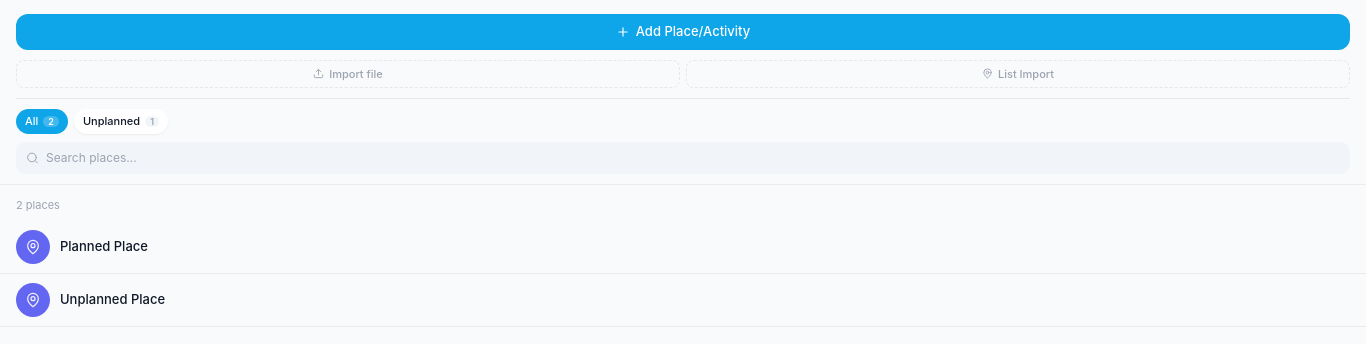
Filter tabs › FE-PLANNER-SIDEBAR-018: "All" tab re-shows planned places
Click the button "Unplanned 1" at (121, 121), box [74, 109, 168, 134]
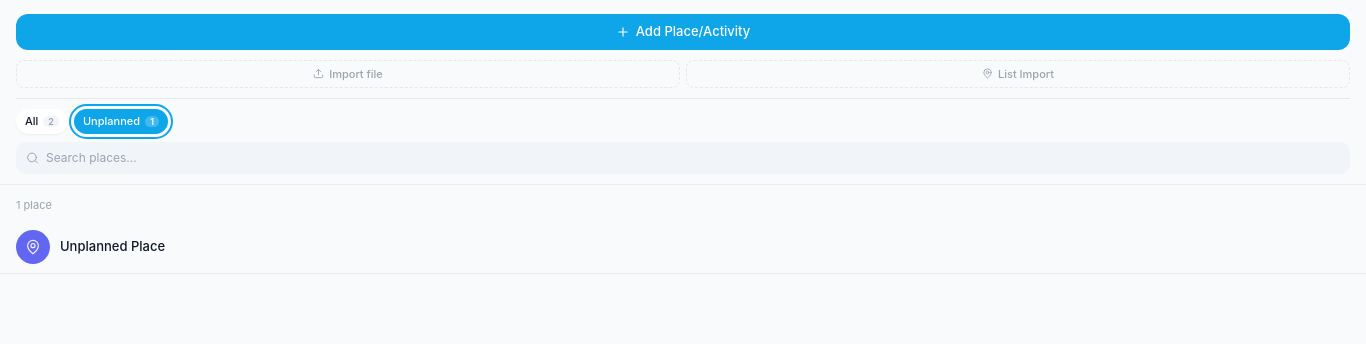
Click the button "All 2" at (42, 121), box [16, 109, 68, 134]
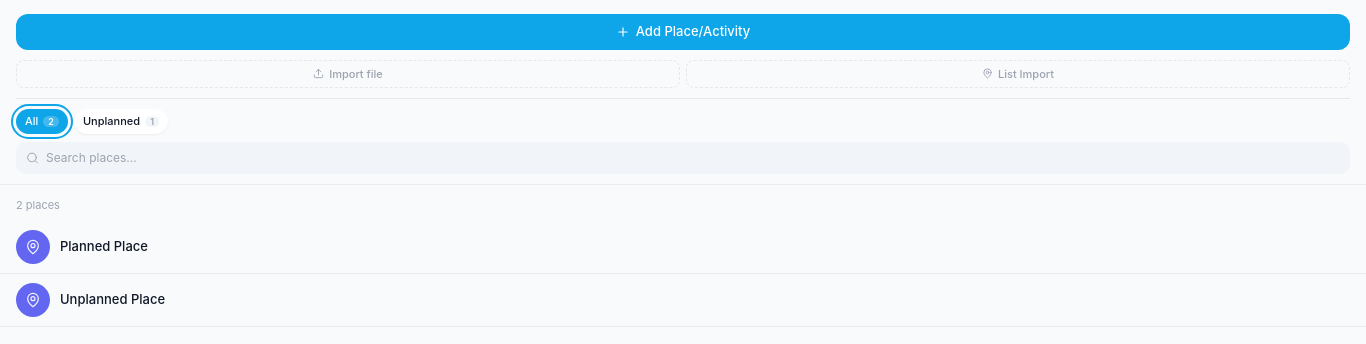
Expected: the text "Unplanned Place" is shown, [60, 292, 165, 307]
Expected: the text "Planned Place" is shown, [60, 239, 148, 254]
